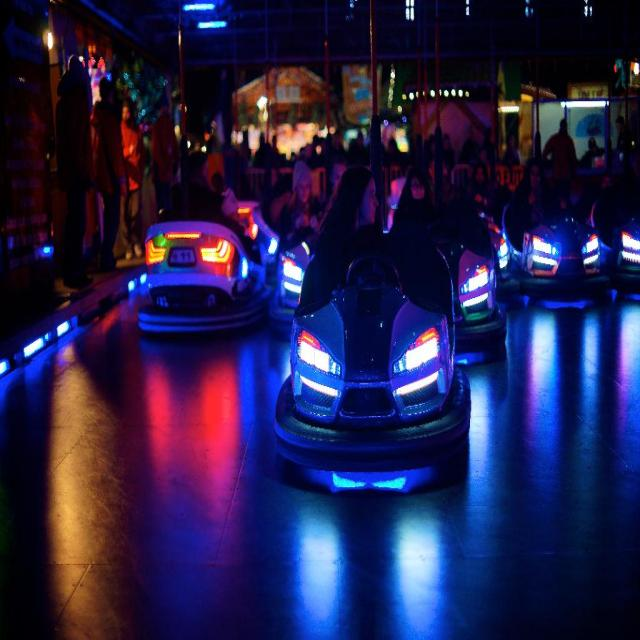car: (127, 203, 267, 341)
